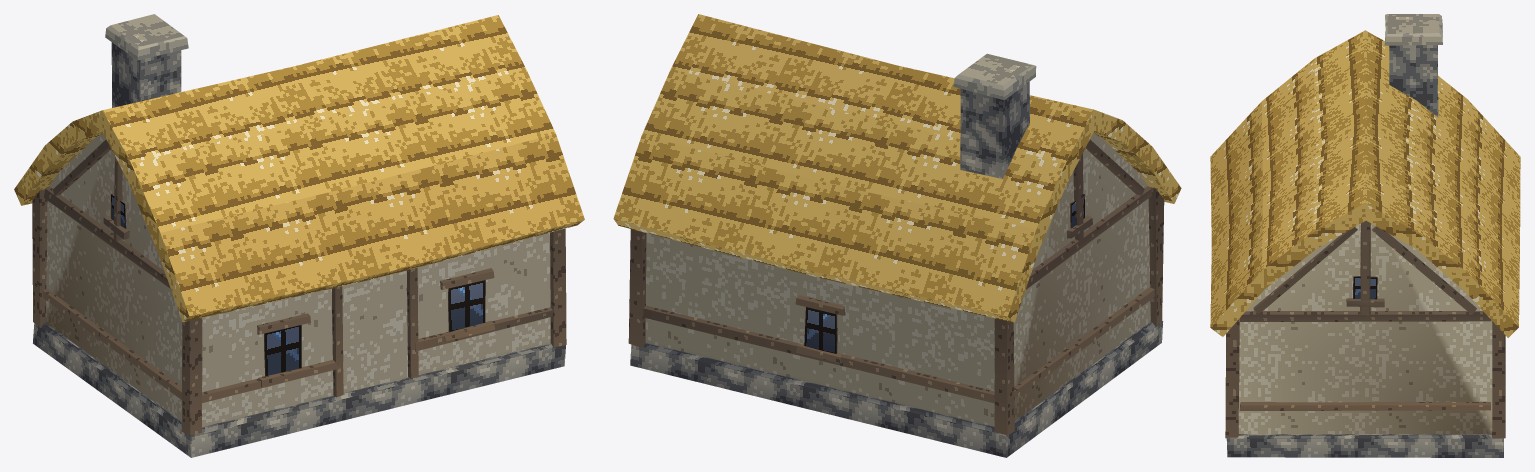
File: vlg.cottage__doorway.glb
The picture shows the model from 3 angles, left to right: view 1: azimuth 30°, elevation 25°; view 2: azimuth 150°, elevation 25°; view 3: azimuth 270°, elevation 25°; orthographic projection. The views are drawn at different scales.
Visible parts, largest first — view 1: kit_roof, kit_walls, kit_stonework, kit_frame, kit_fittings; view 2: kit_roof, kit_walls, kit_stonework, kit_frame, kit_fittings; view 3: kit_roof, kit_walls, kit_frame, kit_stonework, kit_fittings.
Boxes of the visible parts, bbox=[...] form: kit_roof: bbox=[14, 15, 584, 322]; kit_walls: bbox=[46, 134, 550, 426]; kit_stonework: bbox=[33, 14, 565, 457]; kit_frame: bbox=[32, 139, 566, 435]; kit_fittings: bbox=[103, 193, 495, 387]; kit_roof: bbox=[613, 14, 1181, 322]; kit_walls: bbox=[645, 134, 1150, 426]; kit_stonework: bbox=[630, 53, 1163, 457]; kit_frame: bbox=[628, 139, 1164, 435]; kit_fittings: bbox=[795, 193, 1092, 363]; kit_roof: bbox=[1210, 30, 1520, 337]; kit_walls: bbox=[1238, 223, 1492, 434]; kit_frame: bbox=[1225, 220, 1505, 438]; kit_stonework: bbox=[1226, 14, 1503, 457]; kit_fittings: bbox=[1346, 276, 1384, 307].
Bounding box in the file's own units: 7.57 × 6.12 × 5.76.
Materials: 6 (6 with a texture image).
